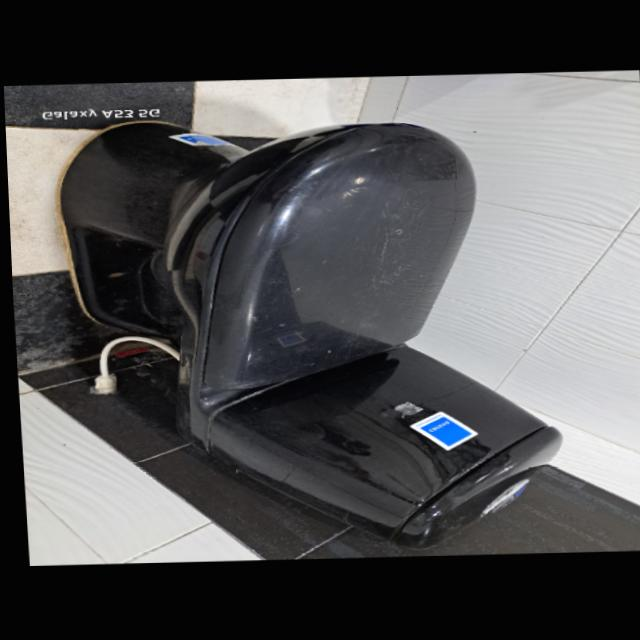toilet: (52, 112, 565, 560)
